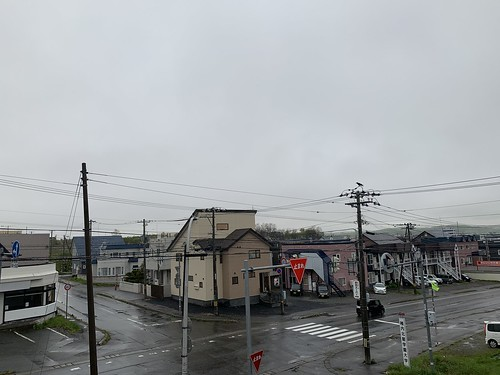building: (168, 205, 269, 304), (1, 228, 61, 320), (369, 234, 462, 288), (286, 240, 365, 297), (66, 227, 143, 282)
crosswalk: (282, 308, 374, 349)
sky: (1, 1, 500, 217)
street: (51, 292, 492, 375)
